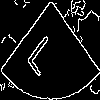L: (25, 25, 63, 79)
